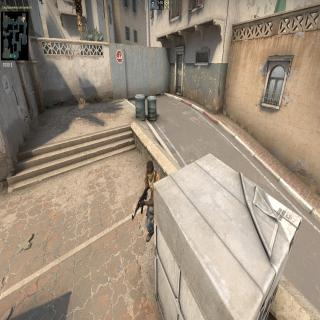T-Head: (145, 160, 155, 183)
